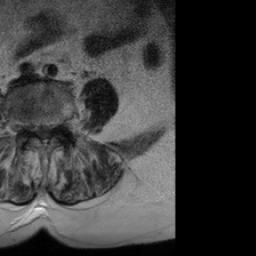CCS_normal: (40, 117, 47, 149)
LFS_stenosis: (54, 113, 62, 134)
LLS_normal: (47, 117, 54, 142)
RFS_normal: (24, 114, 33, 137)
RLS_normal: (33, 116, 40, 140)
